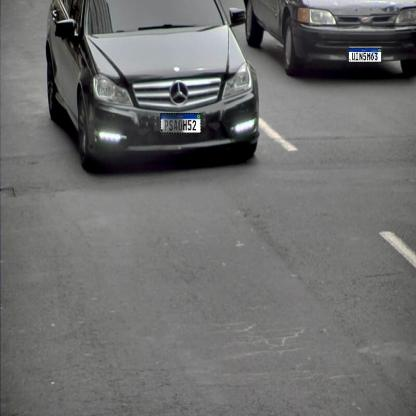PlacaM: (160, 113, 201, 134), (348, 48, 382, 62)
